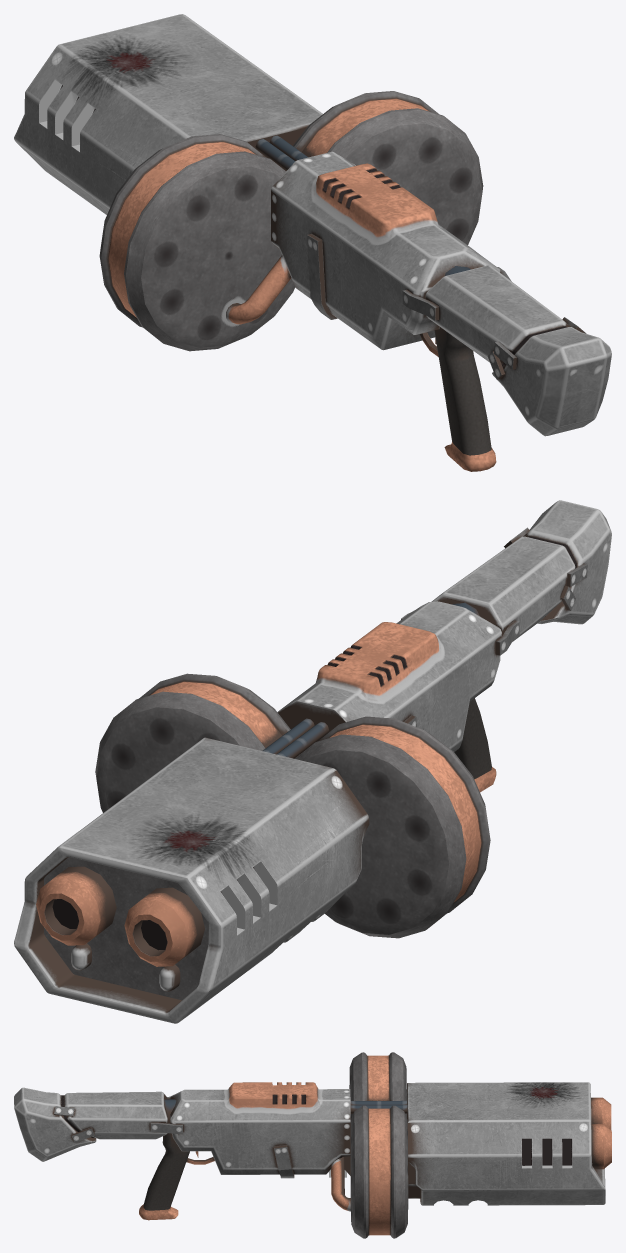
Rendered from shotgun.glb.
3 renders of one model, top to bottom at view 1: azimuth 30°, elevation 25°; view 2: azimuth 150°, elevation 25°; view 3: azimuth 270°, elevation 25°, orthographic. The views are drawn at different scales.
Parts seen in each view (by area): view 1: pCube47; view 2: pCube47; view 3: pCube47.
Boxes of the visible parts, box(x1,y1,x2,y2) form: pCube47: box(14, 14, 611, 471); pCube47: box(14, 500, 611, 1023); pCube47: box(14, 1052, 611, 1238).
Bounding box in the file's own units: 28.92 × 15.96 × 66.49.
2 materials, 1 textured.
